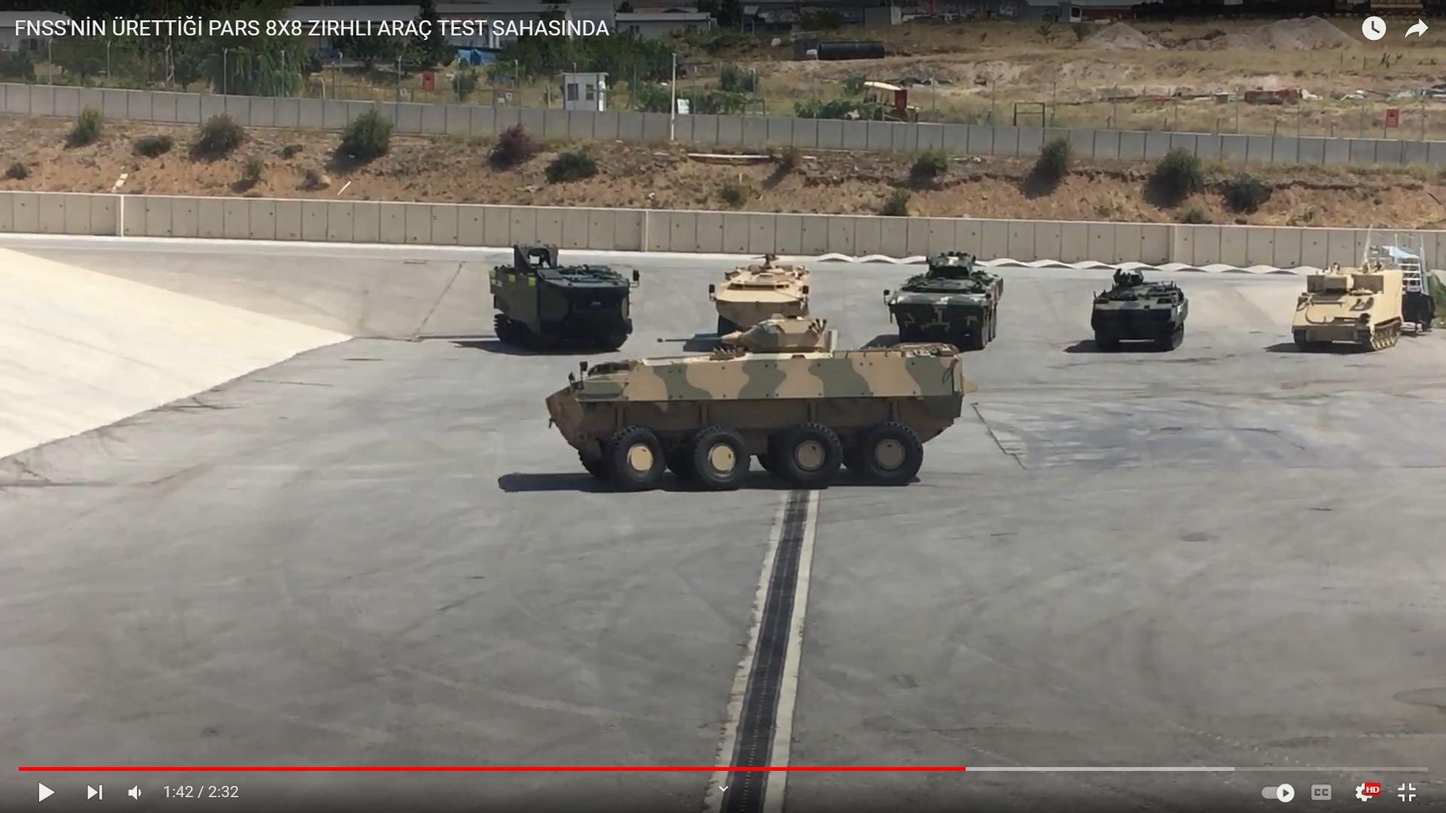armored_car: (538, 311, 970, 492), (884, 251, 1003, 352), (1291, 261, 1408, 354), (1091, 269, 1190, 353)
